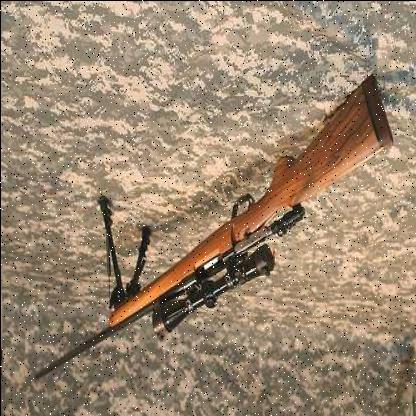rifle: (23, 57, 394, 410)
